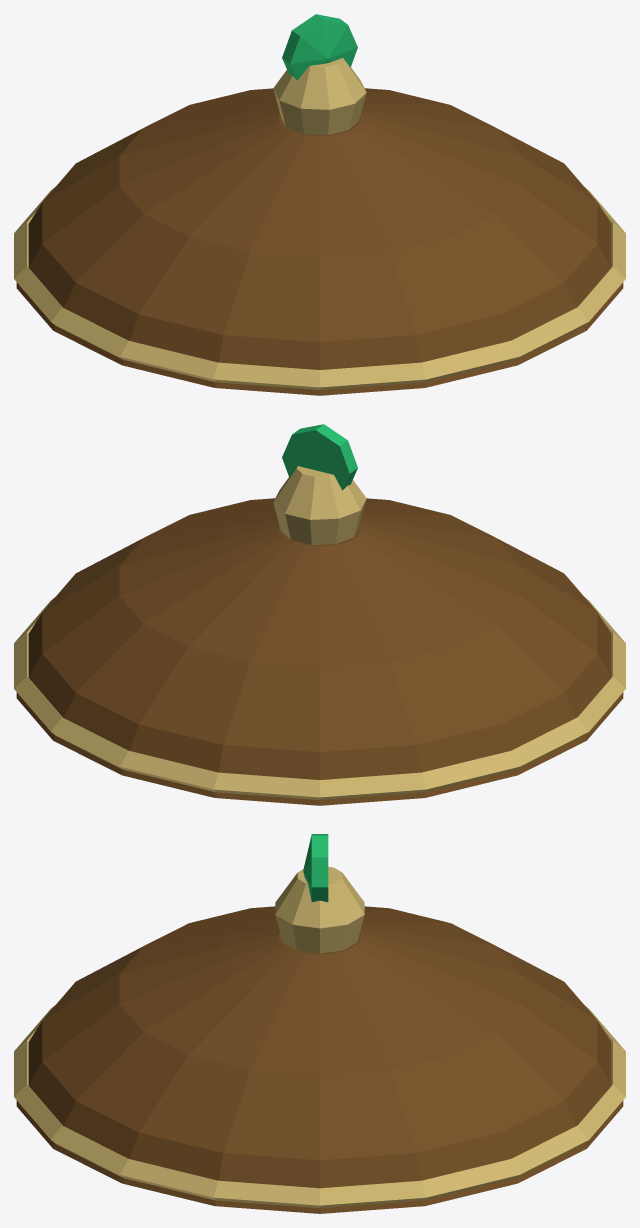
Rendered from domed_lid.obj.
3 renders of one model, top to bottom at view 1: azimuth 30°, elevation 25°; view 2: azimuth 150°, elevation 25°; view 3: azimuth 270°, elevation 25°, orthographic.
Visible parts, largest first — view 1: domed_lid, dome_lip, dome_finial, dome_gem; view 2: domed_lid, dome_lip, dome_finial, dome_gem; view 3: domed_lid, dome_lip, dome_finial, dome_gem.
Boxes of the visible parts, left/top/right/bottom form: domed_lid: left=16, top=88, right=623, bottom=395; dome_lip: left=14, top=187, right=625, bottom=389; dome_finial: left=273, top=58, right=366, bottom=134; dome_gem: left=282, top=14, right=357, bottom=80; domed_lid: left=16, top=498, right=623, bottom=805; dome_lip: left=14, top=597, right=625, bottom=799; dome_finial: left=273, top=466, right=366, bottom=544; dome_gem: left=282, top=424, right=357, bottom=490; domed_lid: left=16, top=906, right=623, bottom=1213; dome_lip: left=14, top=1005, right=625, bottom=1208; dome_finial: left=275, top=866, right=364, bottom=953; dome_gem: left=303, top=834, right=328, bottom=902.
Size of the model in its own units: 1.19 by 0.53 by 1.17.
